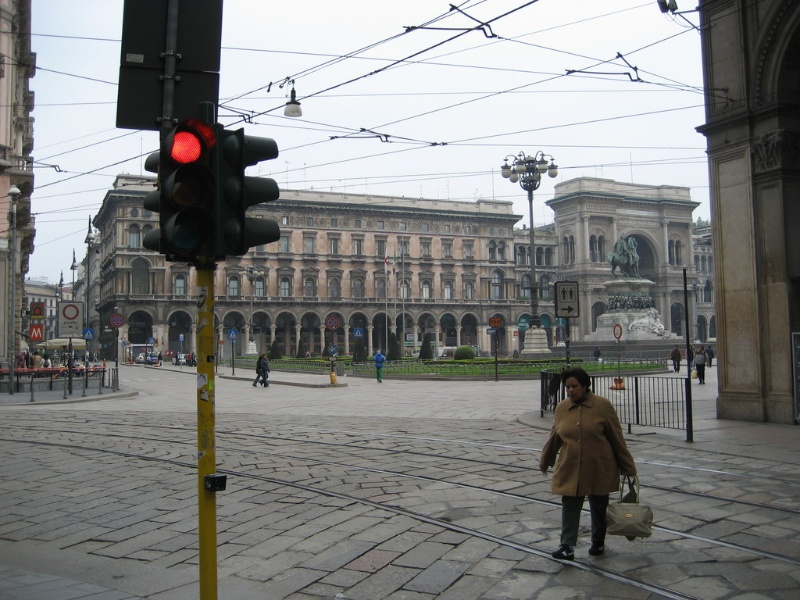red_light: (153, 115, 216, 171)
